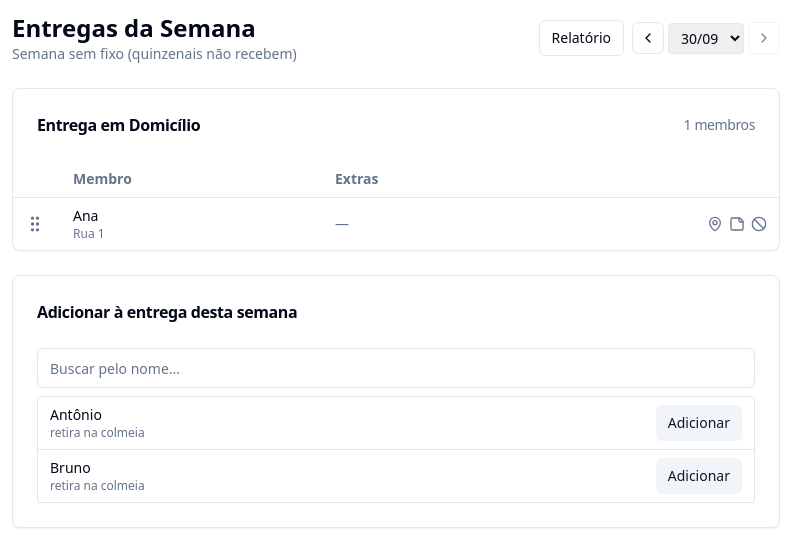
Scenario: adicionar membro à entrega da semana › a busca filtra sem depender de acento nem de caixa
Type "antonio" into the field named "buscar membro" at coordinates (396, 368), box [37, 348, 755, 388]
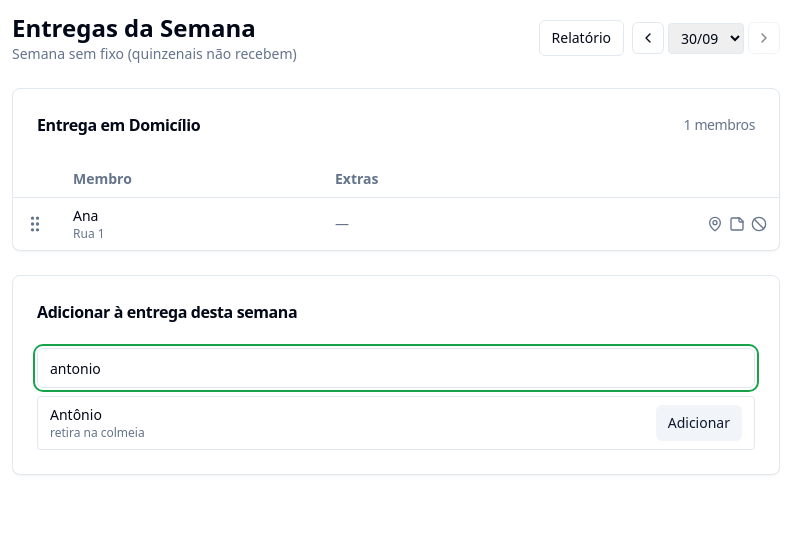
expect the text "Antônio" is shown: met, box [50, 405, 102, 424]
expect the text "Bruno" is gone: met
